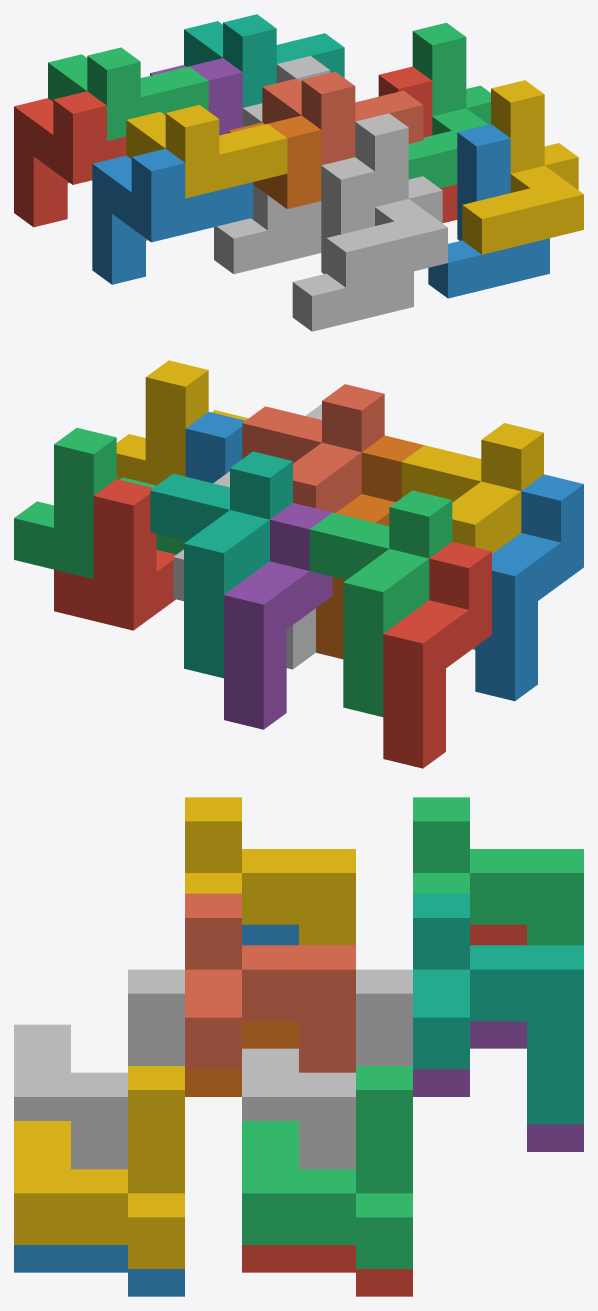
File: tiling.obj
3 views of the same model, one above another, from view 1: azimuth 30°, elevation 25°; view 2: azimuth 150°, elevation 25°; view 3: azimuth 270°, elevation 25° (orthographic). The views are drawn at different scales.
Parts seen in each view (by area): view 1: copy_1_domain_2, copy_2_domain_8, copy_2_domain_4, copy_1_domain_1, copy_2_domain_2, copy_1_domain_4, copy_2_domain_6, copy_2_domain_7, copy_1_domain_3, copy_1_domain_8, copy_1_domain_7, copy_2_domain_1 (+4 smaller); view 2: copy_1_domain_3, copy_1_domain_7, copy_1_domain_1, copy_1_domain_5, copy_1_domain_2, copy_2_domain_5, copy_1_domain_4, copy_1_domain_8, copy_2_domain_7, copy_2_domain_8, copy_1_domain_6, copy_2_domain_6 (+2 smaller); view 3: copy_1_domain_7, copy_2_domain_7, copy_2_domain_8, copy_1_domain_8, copy_2_domain_4, copy_1_domain_3, copy_1_domain_4, copy_2_domain_3, copy_1_domain_5, copy_2_domain_5, copy_2_domain_6, copy_1_domain_6 (+4 smaller).
Boxes of the visible parts, x1,y1,x2,y2 form: copy_1_domain_2: (92, 148, 253, 284); copy_2_domain_8: (462, 80, 583, 254); copy_2_domain_4: (326, 113, 447, 287); copy_1_domain_1: (14, 91, 126, 227); copy_2_domain_2: (292, 157, 413, 331); copy_1_domain_4: (126, 105, 287, 240); copy_2_domain_6: (428, 124, 549, 298); copy_2_domain_7: (408, 22, 490, 188); copy_1_domain_3: (48, 47, 208, 183); copy_1_domain_8: (262, 71, 423, 165); copy_1_domain_7: (184, 14, 344, 107); copy_2_domain_1: (214, 103, 321, 274); copy_1_domain_3: (309, 490, 452, 716); copy_1_domain_7: (150, 451, 292, 678); copy_1_domain_1: (383, 541, 491, 768); copy_1_domain_5: (224, 503, 332, 729); copy_1_domain_2: (475, 474, 583, 701); copy_2_domain_5: (54, 479, 175, 630); copy_1_domain_4: (401, 423, 543, 649); copy_1_domain_8: (242, 384, 384, 512); copy_2_domain_7: (14, 427, 186, 578); copy_2_domain_8: (116, 360, 248, 485); copy_1_domain_6: (316, 435, 424, 659); copy_2_domain_6: (185, 412, 245, 483); copy_1_domain_7: (413, 893, 583, 1124); copy_2_domain_7: (242, 1066, 412, 1268); copy_2_domain_8: (14, 1066, 184, 1268); copy_1_domain_8: (185, 893, 355, 1072); copy_2_domain_4: (14, 969, 184, 1148); copy_1_domain_3: (413, 797, 583, 945); copy_1_domain_4: (185, 797, 355, 945); copy_2_domain_3: (242, 969, 412, 1148); copy_1_domain_5: (413, 1021, 583, 1151); copy_2_domain_5: (242, 1245, 412, 1296); copy_2_domain_6: (14, 1245, 184, 1296); copy_1_domain_6: (185, 1021, 298, 1096).
Size of the model in its own units: 12 by 5 by 10.
